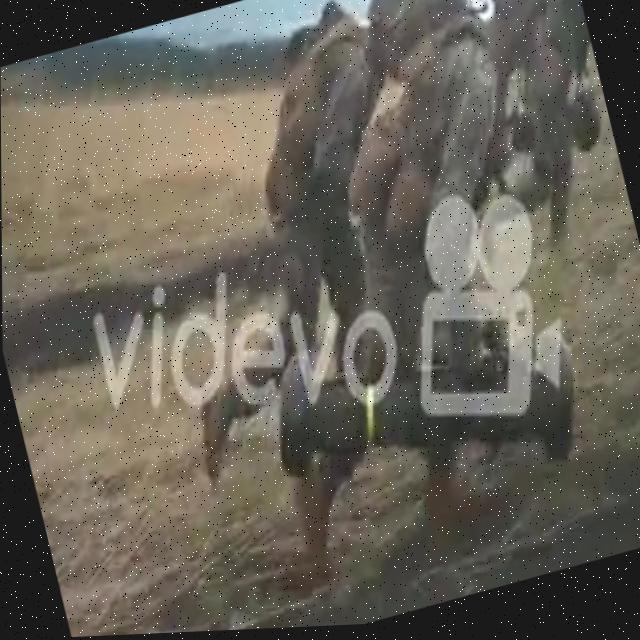rocket: (256, 279, 595, 537)
